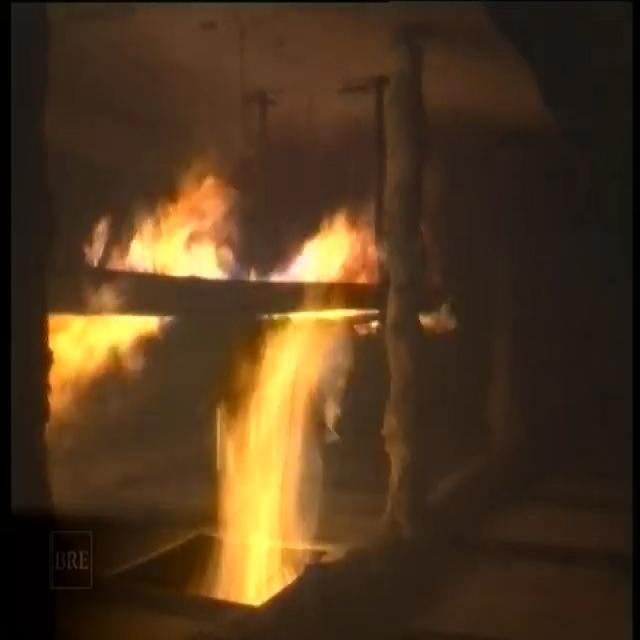Fire: (54, 182, 334, 540)
